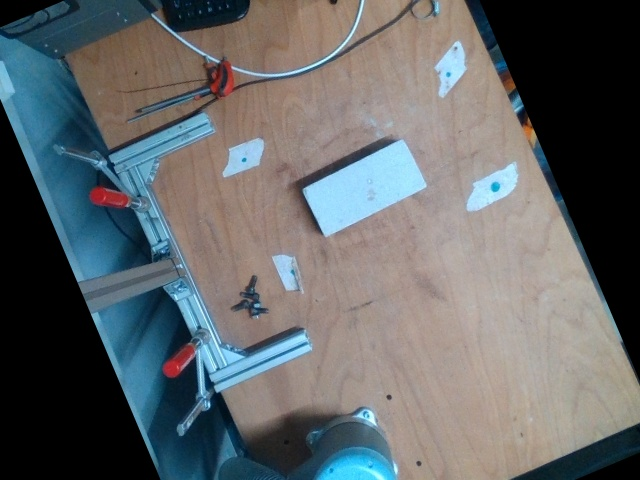brick: (302, 137, 425, 236)
